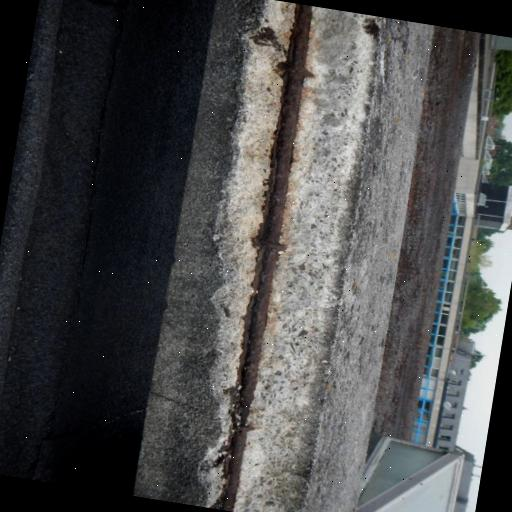spalling: (183, 0, 379, 512)
